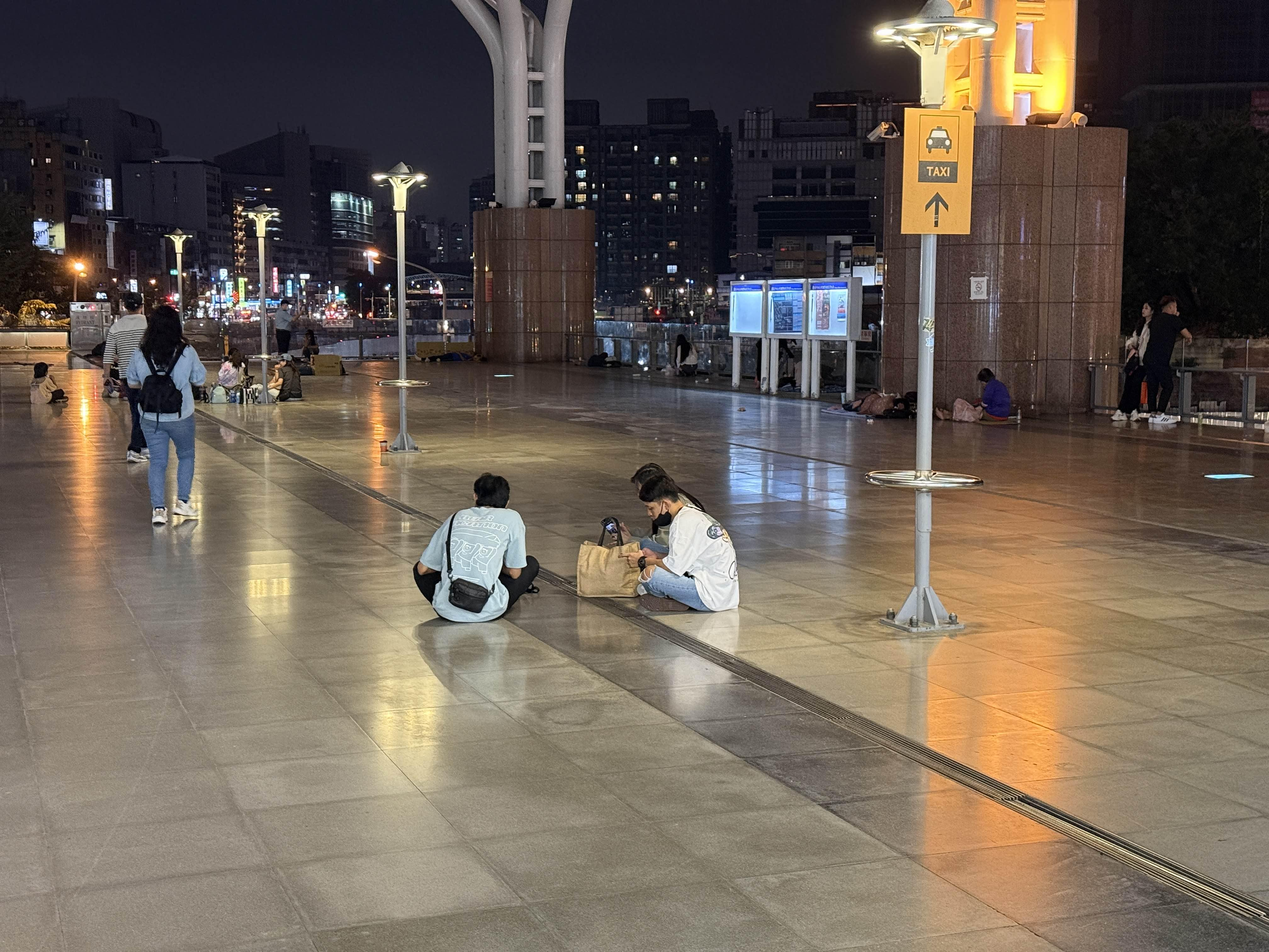NoHelmet: (640, 476, 678, 522), (474, 472, 510, 506), (632, 463, 664, 491), (150, 305, 179, 335), (34, 362, 48, 375)
NoVest: (452, 509, 509, 617)
